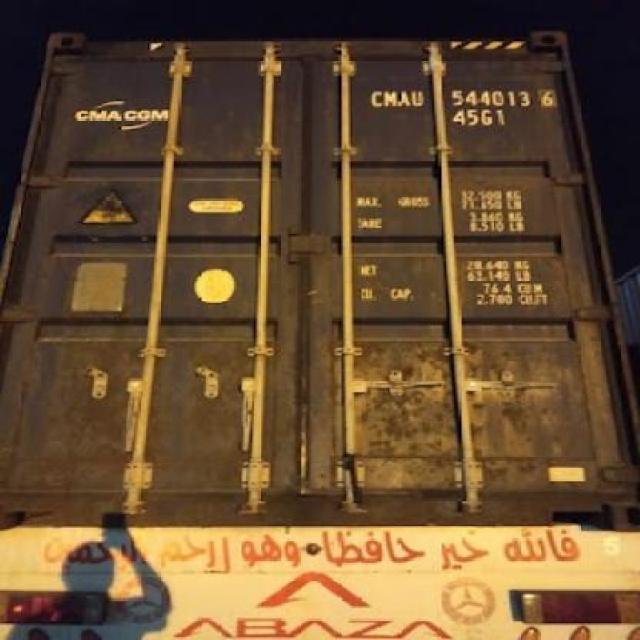ISO: (449, 108, 514, 128)
container_number: (370, 84, 562, 110)
